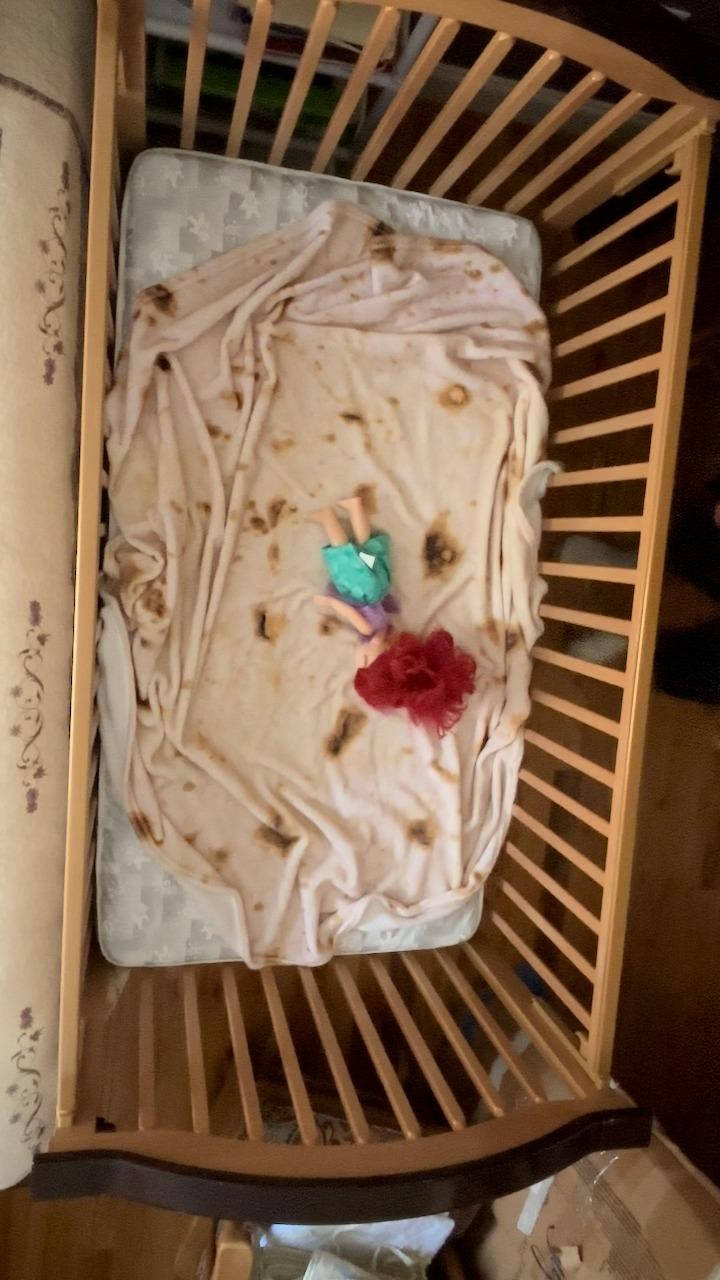baby: (310, 490, 469, 724)
